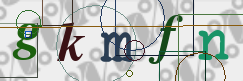f: (145, 10, 185, 67)
g: (10, 19, 43, 64)
k: (53, 20, 89, 66)
m: (97, 26, 137, 67)
n: (193, 27, 233, 66)
